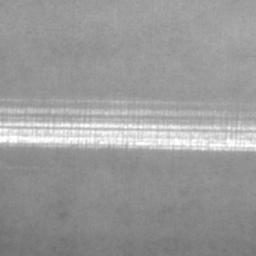Bright scratch: (0, 119, 256, 152)
